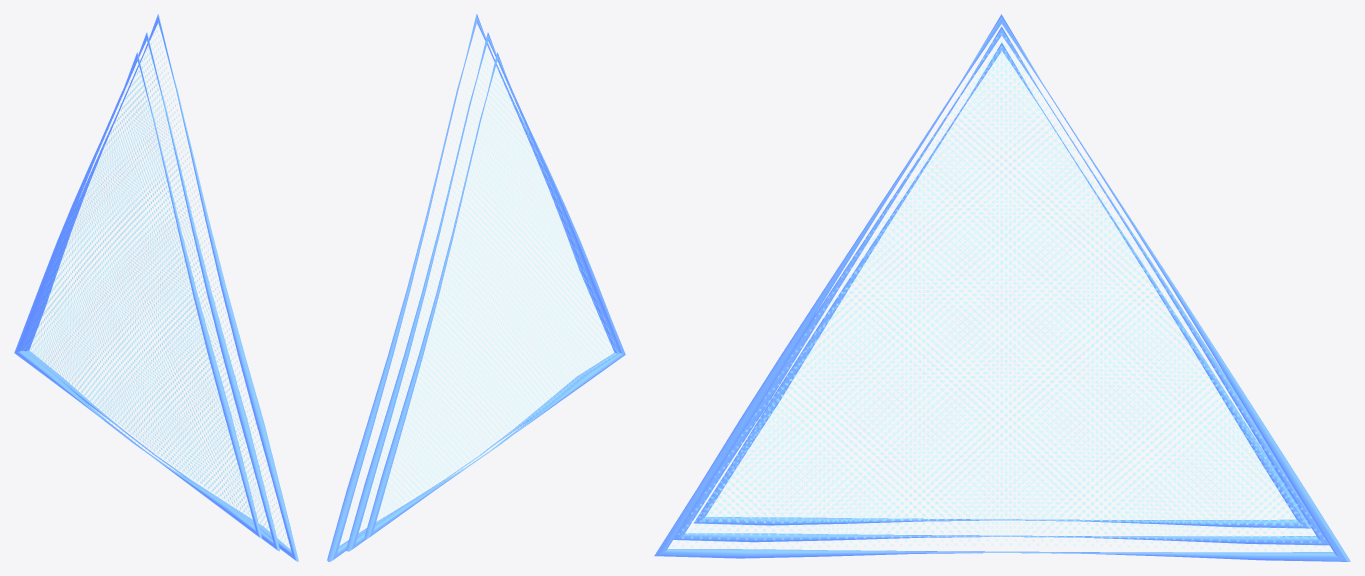
Rendered from animatedportal.glb.
3 renders of one model, left to right at view 1: azimuth 30°, elevation 25°; view 2: azimuth 150°, elevation 25°; view 3: azimuth 270°, elevation 25°, orthographic. The views are drawn at different scales.
Parts seen in each view (by area): view 1: Portal; view 2: Portal; view 3: Portal.
Part boxes in pixels (x1,y1,x2,y2): Portal: (14,14,298,561); Portal: (327,14,625,561); Portal: (654,14,1350,561).
Size of the model in its own units: 0.2065 by 2.49 by 2.89.
2 materials, 1 textured.
